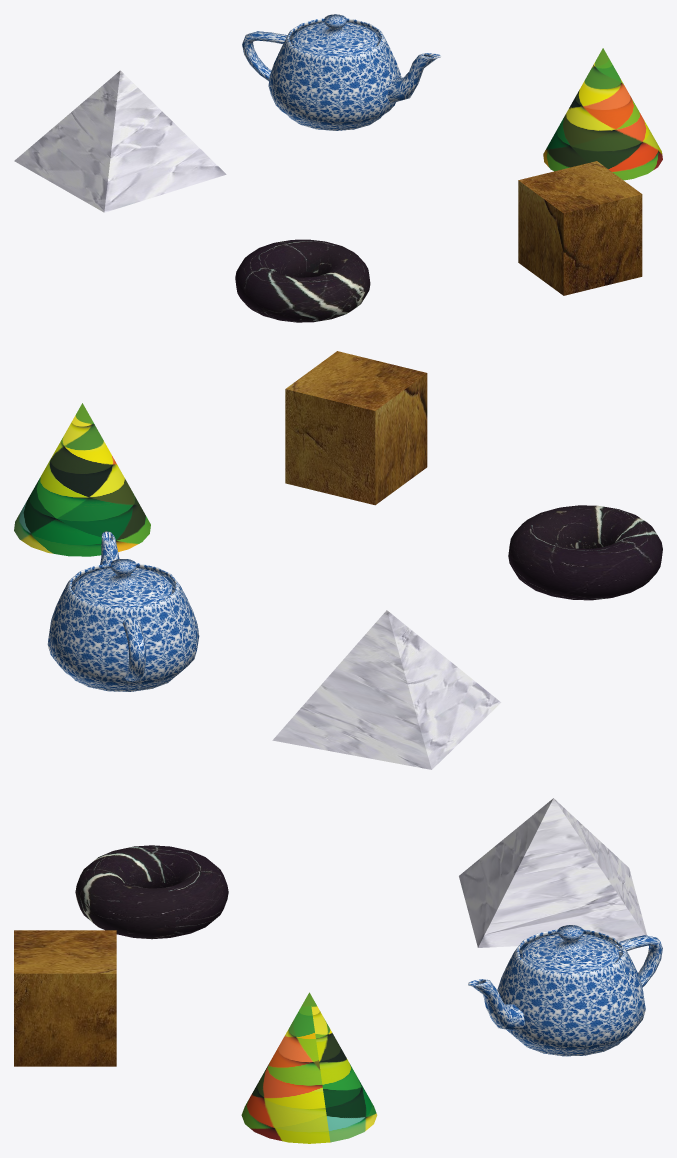
File: sceneFinal.dae
The picture shows the model from 3 angles, top to bottom: view 1: azimuth 30°, elevation 25°; view 2: azimuth 150°, elevation 25°; view 3: azimuth 270°, elevation 25°; orthographic projection. The views are drawn at different scales.
Visible parts, largest first — view 1: Pyramid, Box, Teapot, Torus1, Cone; view 2: Pyramid, Box, Teapot, Torus1, Cone; view 3: Pyramid, Teapot, Box, Cone, Torus1.
Part boxes in pixels (x1,y1,x2,y2): Pyramid: [14, 70, 226, 212]; Box: [518, 161, 642, 295]; Teapot: [242, 14, 440, 130]; Torus1: [235, 239, 370, 322]; Cone: [543, 48, 662, 180]; Pyramid: [272, 610, 501, 769]; Box: [285, 351, 427, 505]; Teapot: [47, 531, 199, 691]; Torus1: [508, 505, 662, 600]; Cone: [14, 403, 150, 556]; Pyramid: [459, 798, 646, 947]; Teapot: [468, 925, 662, 1056]; Box: [14, 930, 116, 1066]; Cone: [241, 992, 377, 1143]; Torus1: [75, 845, 228, 939].
Bounding box in the file's own units: 12.72 × 2.76 × 12.7.
